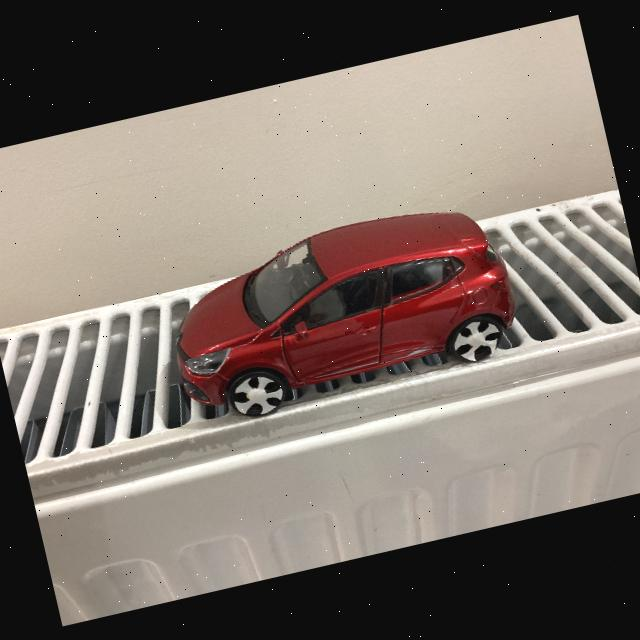Yanlis_Jant: (227, 369, 288, 421), (448, 316, 505, 366)
